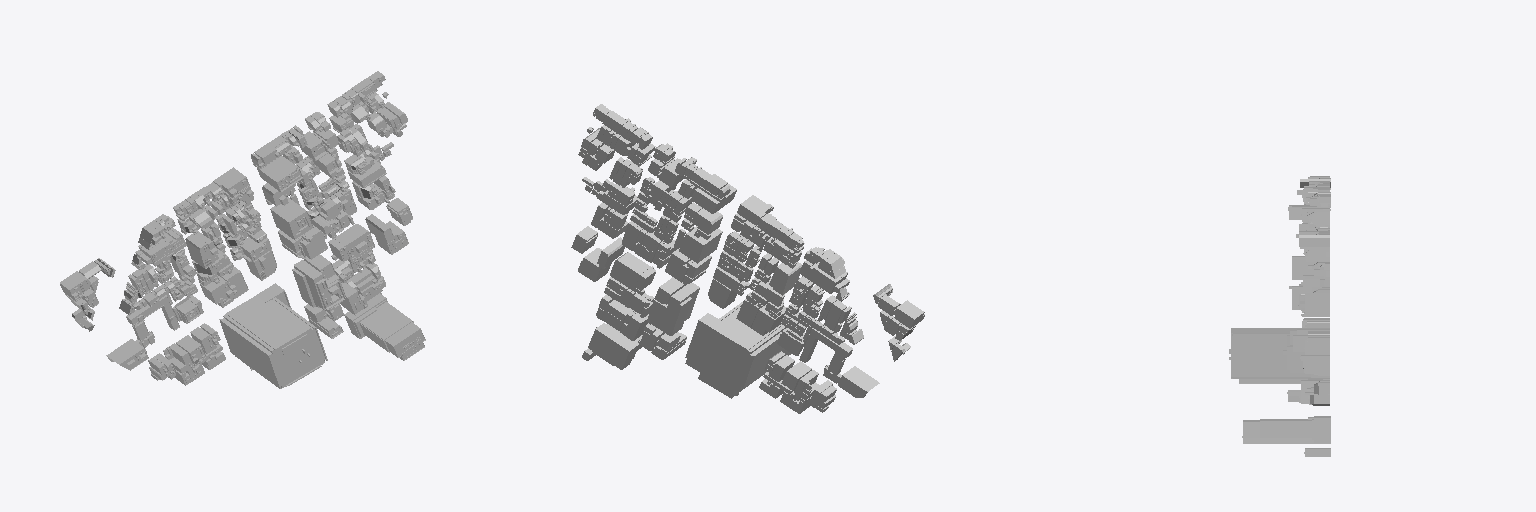
Rendered from 533946214_bldg_6677.obj.
3 views of the same model, side by side, from view 1: azimuth 30°, elevation 25°; view 2: azimuth 150°, elevation 25°; view 3: azimuth 270°, elevation 25° (orthographic).
Bounding box in the file's own units: 563 × 410 × 144.